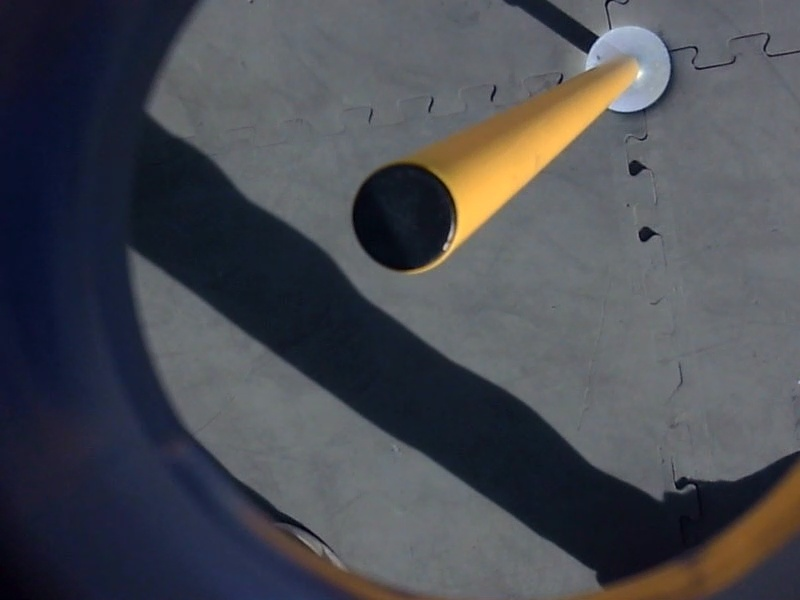tip: (346, 157, 468, 280)
